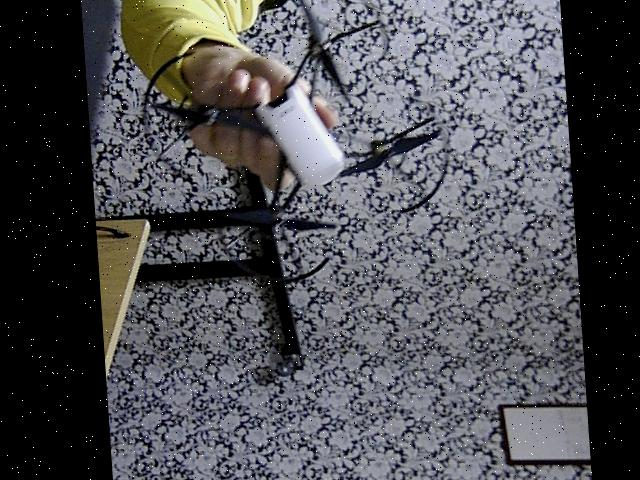drone: (124, 0, 450, 284)
